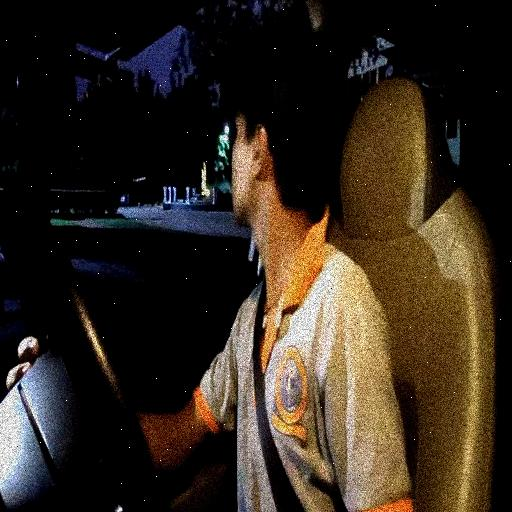Reaching_behind: (177, 51, 406, 508)
